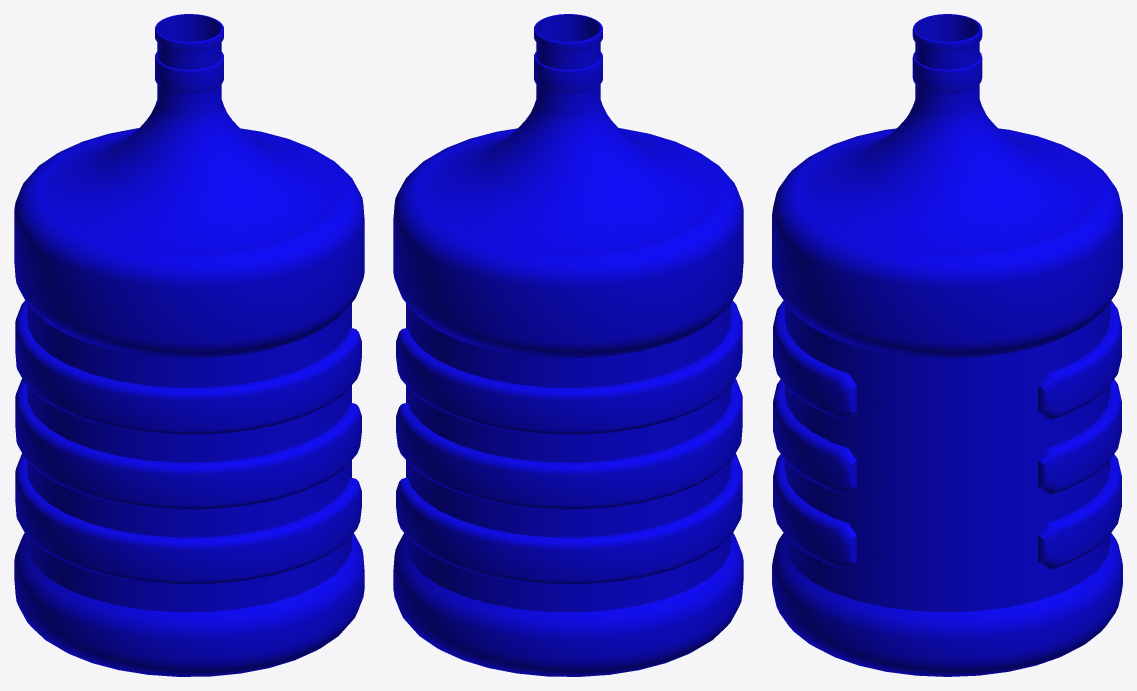
Rendered from Gallon.fbx.
3 renders of one model, left to right at view 1: azimuth 30°, elevation 25°; view 2: azimuth 150°, elevation 25°; view 3: azimuth 270°, elevation 25°, orthographic.
Visible parts, largest first — view 1: Gallon; view 2: Gallon; view 3: Gallon.
Boxes of the visible parts, bbox=[...] form: Gallon: bbox=[14, 14, 364, 676]; Gallon: bbox=[393, 14, 743, 676]; Gallon: bbox=[772, 14, 1122, 676].
Bounding box in the file's own units: 27.9 × 51.34 × 27.9.
